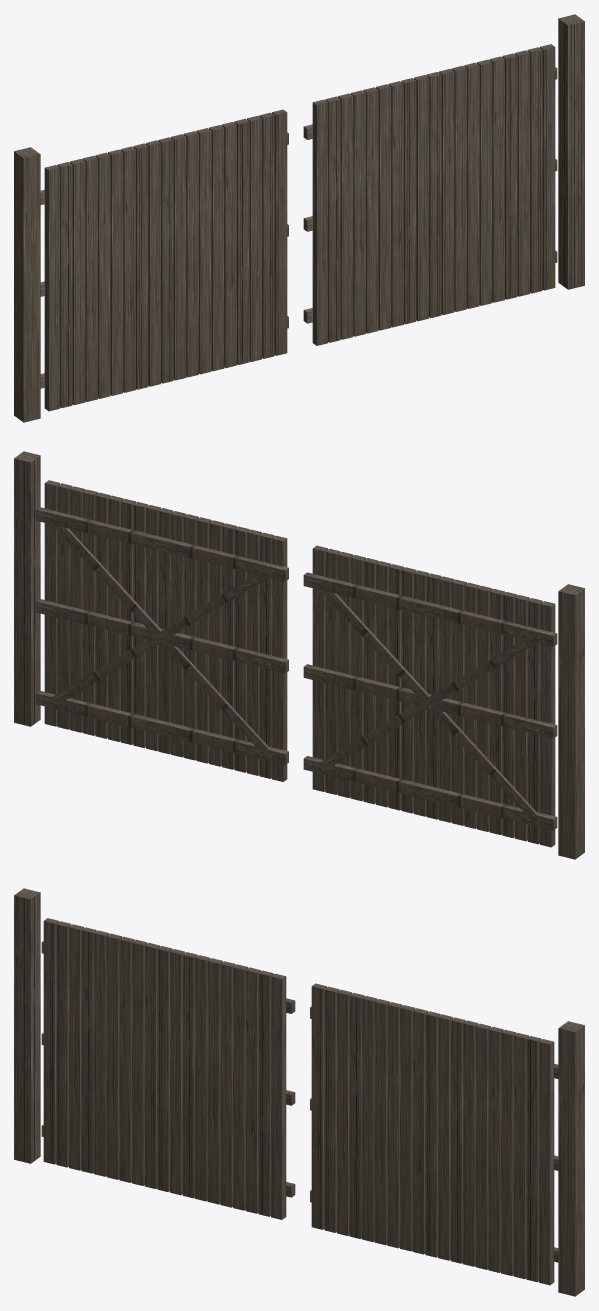
Rendered from showcase_road_gate.glb.
3 views of the same model, one above another, from view 1: azimuth 30°, elevation 25°; view 2: azimuth 150°, elevation 25°; view 3: azimuth 330°, elevation 25° (orthographic).
Visible parts, largest first — view 1: outdoor_showcase_road_gate; view 2: outdoor_showcase_road_gate; view 3: outdoor_showcase_road_gate.
Boxes of the visible parts, left/top/right/bottom form: outdoor_showcase_road_gate: left=14, top=14, right=584, bottom=422; outdoor_showcase_road_gate: left=14, top=451, right=584, bottom=859; outdoor_showcase_road_gate: left=14, top=888, right=584, bottom=1296.
Size of the model in its own units: 8 by 3.6 by 0.24.
Materials: 1 (1 with a texture image).
